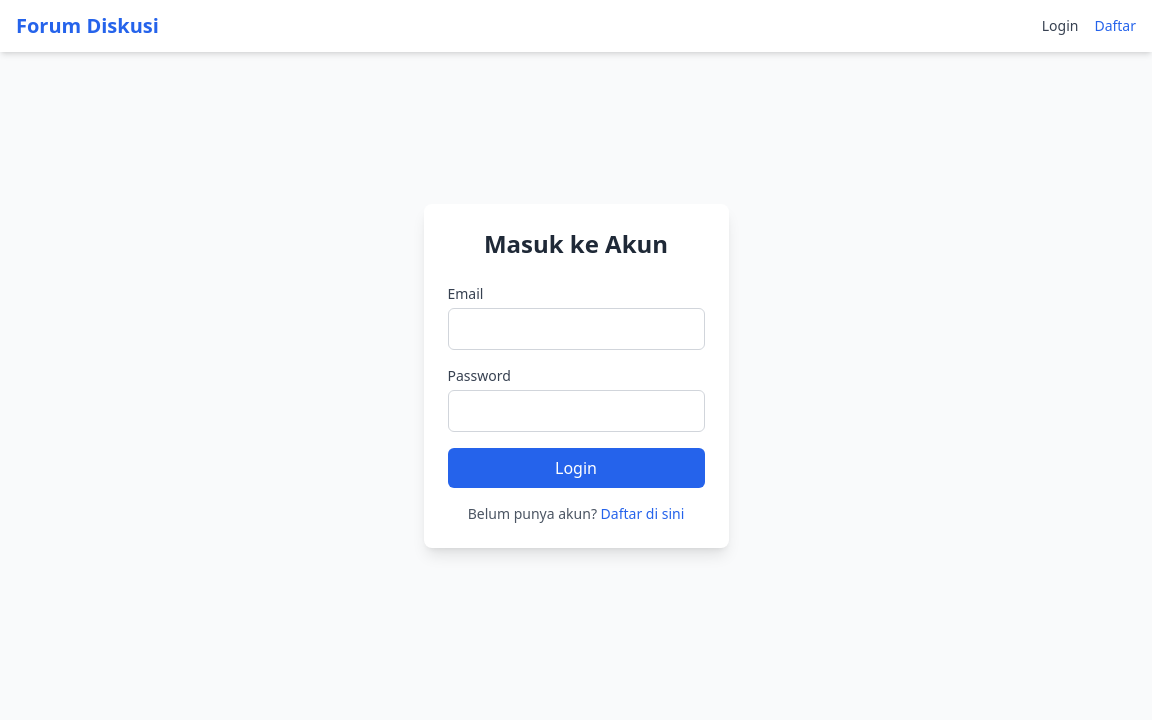
Login Flow › should show error message with invalid credentials
# Isi form dengan kredensial salah
Step 1. Type "wrong@test.com" into the field → (577, 329), box x1=448 y1=308 x2=705 y2=350
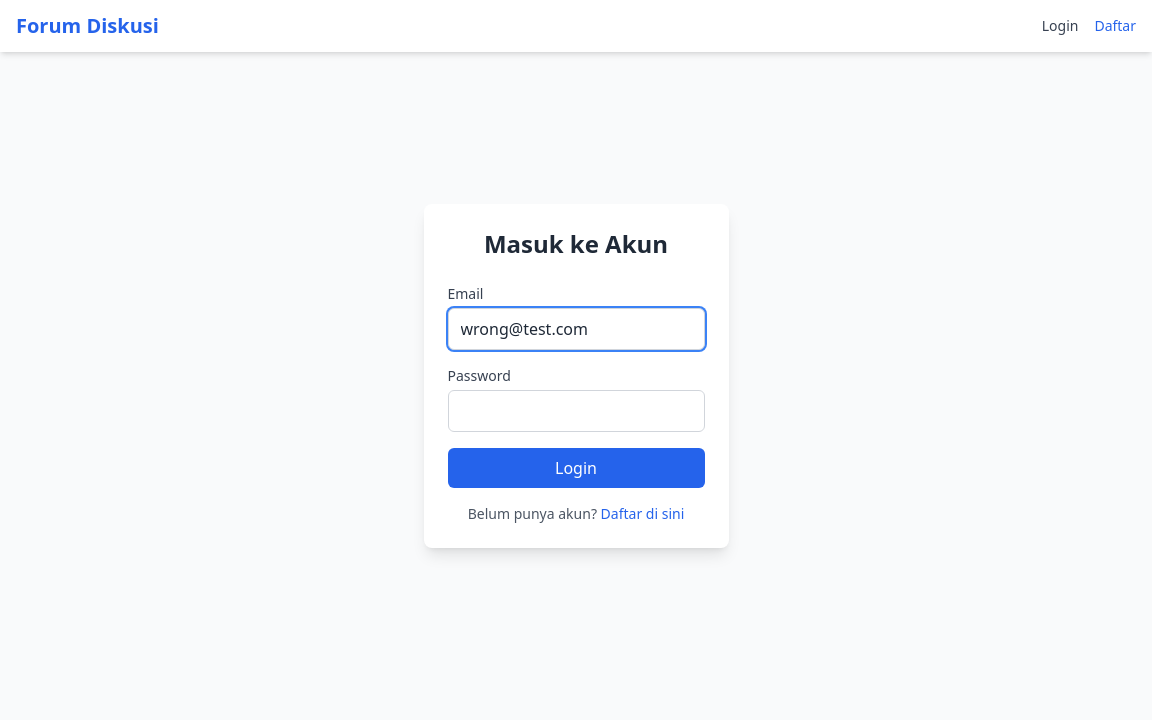
Step 2. Type "wrongpassword" into the password field → (577, 411), box x1=448 y1=390 x2=705 y2=432
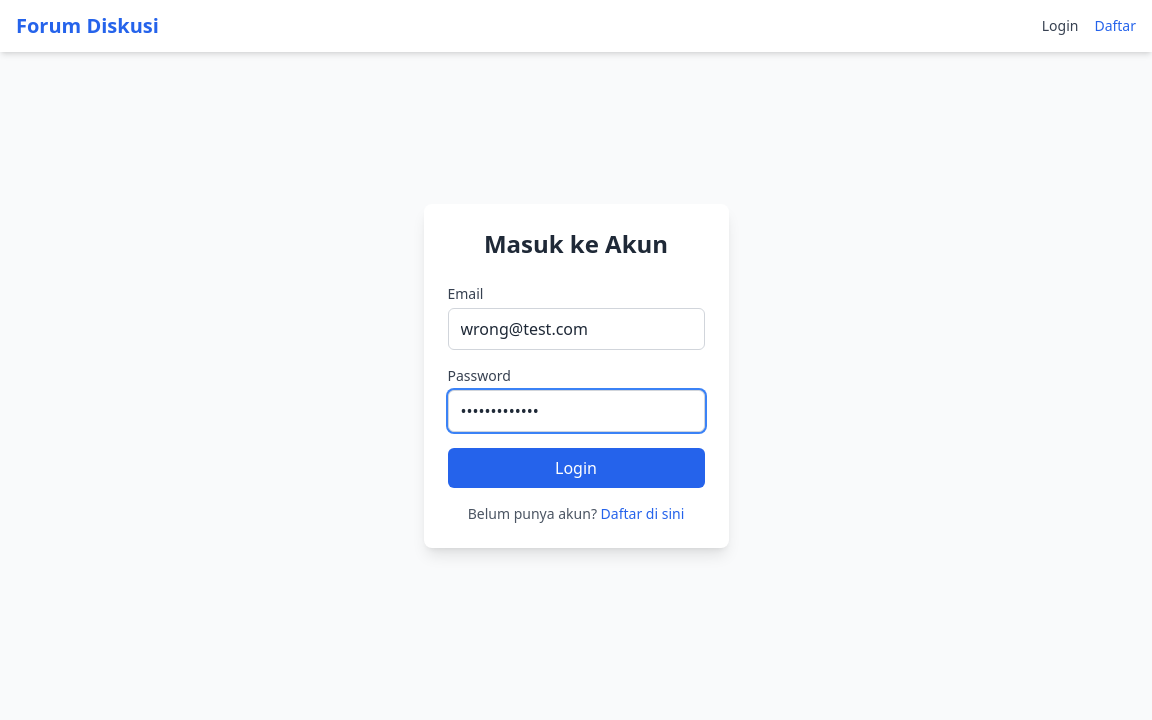
Step 3. Click the submit button → click(577, 468), box x1=448 y1=448 x2=705 y2=488
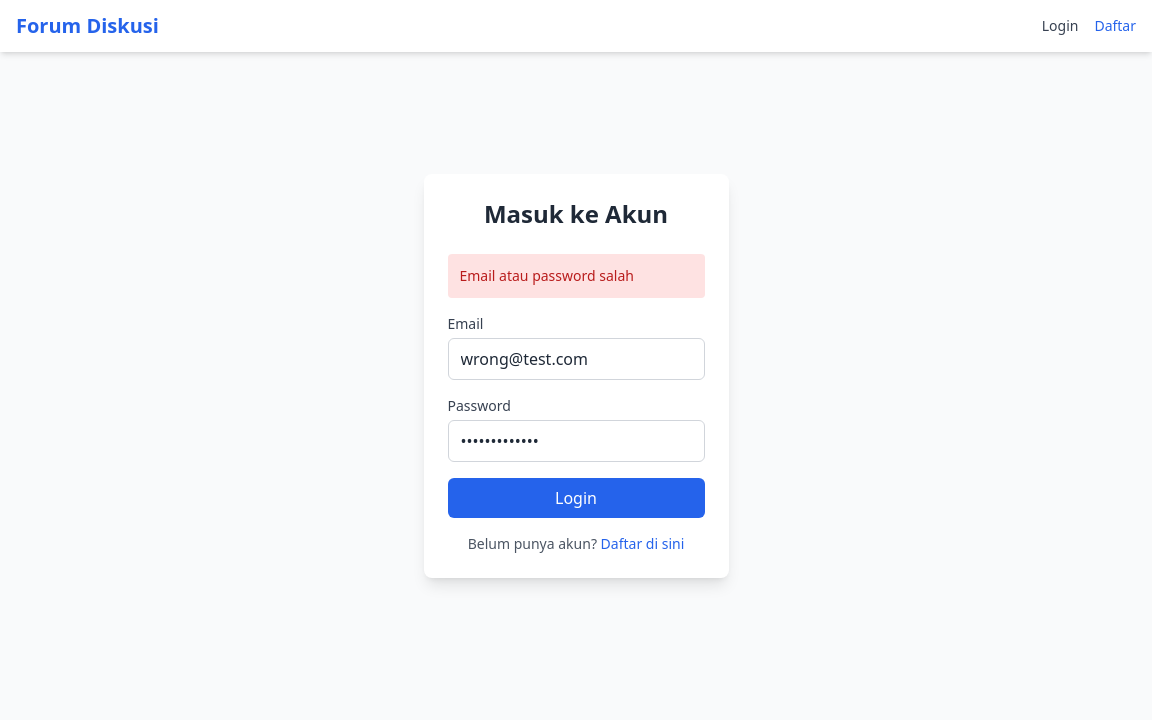
Now the text "Email atau password salah" is shown, box x1=448 y1=254 x2=704 y2=298
